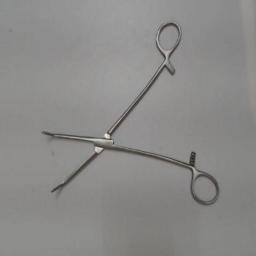Lahey Forceps: (38, 18, 224, 210)
